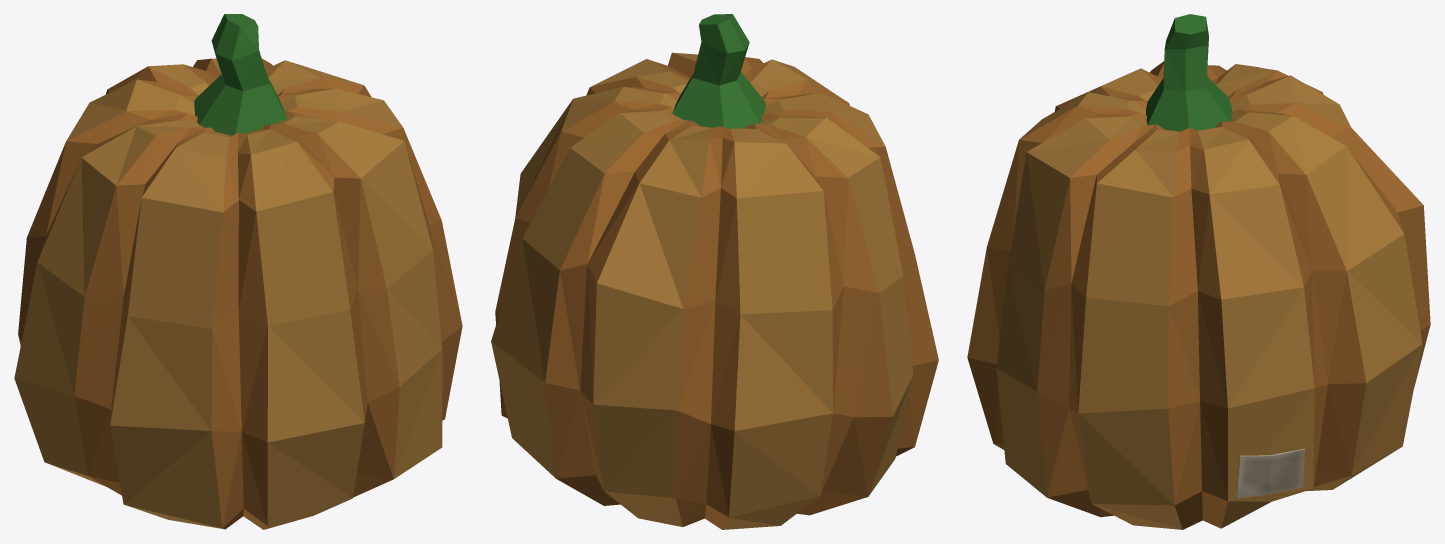
Rendered from pumpkin-1.glb.
3 renders of one model, left to right at view 1: azimuth 30°, elevation 25°; view 2: azimuth 150°, elevation 25°; view 3: azimuth 270°, elevation 25°, orthographic.
Visible parts, largest first — view 1: SM_Prop_Pumpkin_Plastic_01; view 2: SM_Prop_Pumpkin_Plastic_01; view 3: SM_Prop_Pumpkin_Plastic_01.
Boxes of the visible parts, left/top/right/bottom form: SM_Prop_Pumpkin_Plastic_01: left=14, top=14, right=462, bottom=529; SM_Prop_Pumpkin_Plastic_01: left=491, top=14, right=938, bottom=529; SM_Prop_Pumpkin_Plastic_01: left=967, top=14, right=1430, bottom=529.
Bounding box in the file's own units: 54.8 × 62.16 × 55.99.
Materials: 1 (1 with a texture image).
